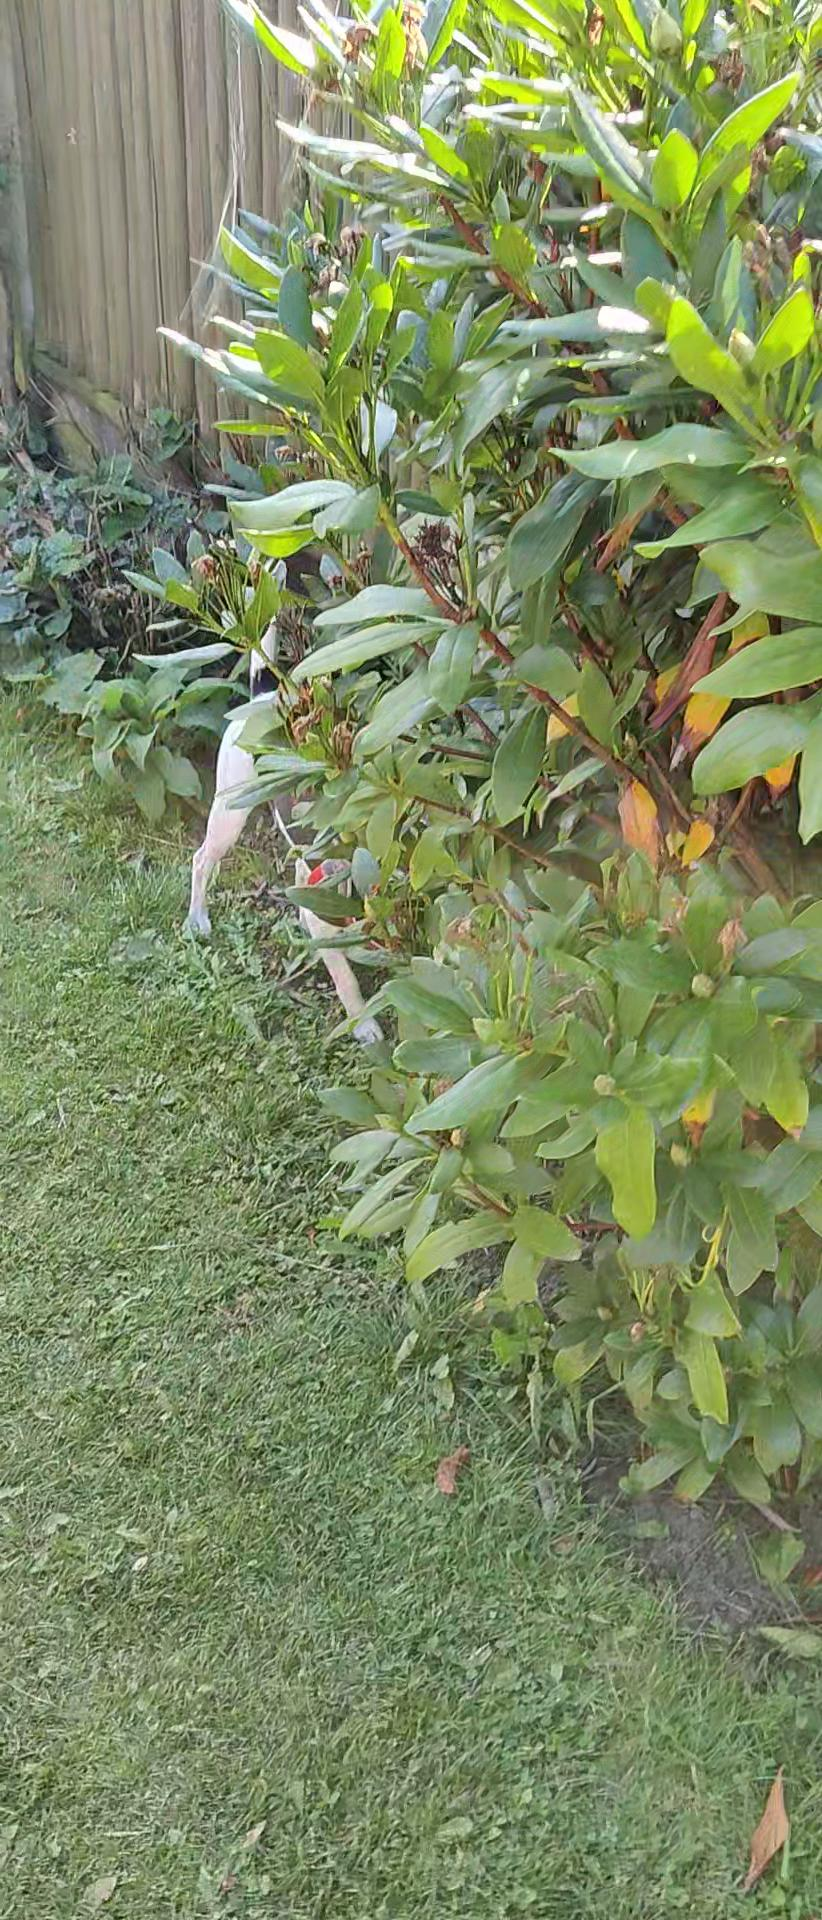Dog: (154, 550, 486, 1053)
